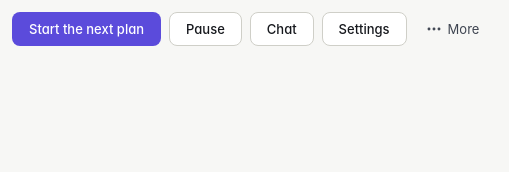
it: ActionBar › closes on Tab and gives the focus back to the button
The image size is (509, 172).
Click the button with test id "action-bar-overflow" at x=452, y=29, box [415,12,488,46]
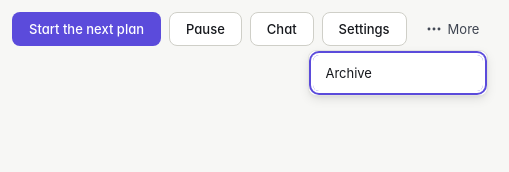
Press Tab in the menu, box [308,50,488,96]
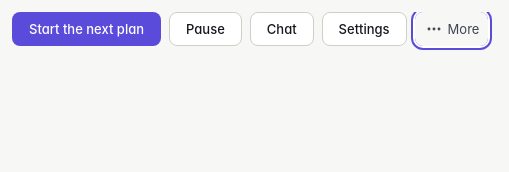
expect the menu is gone: met
